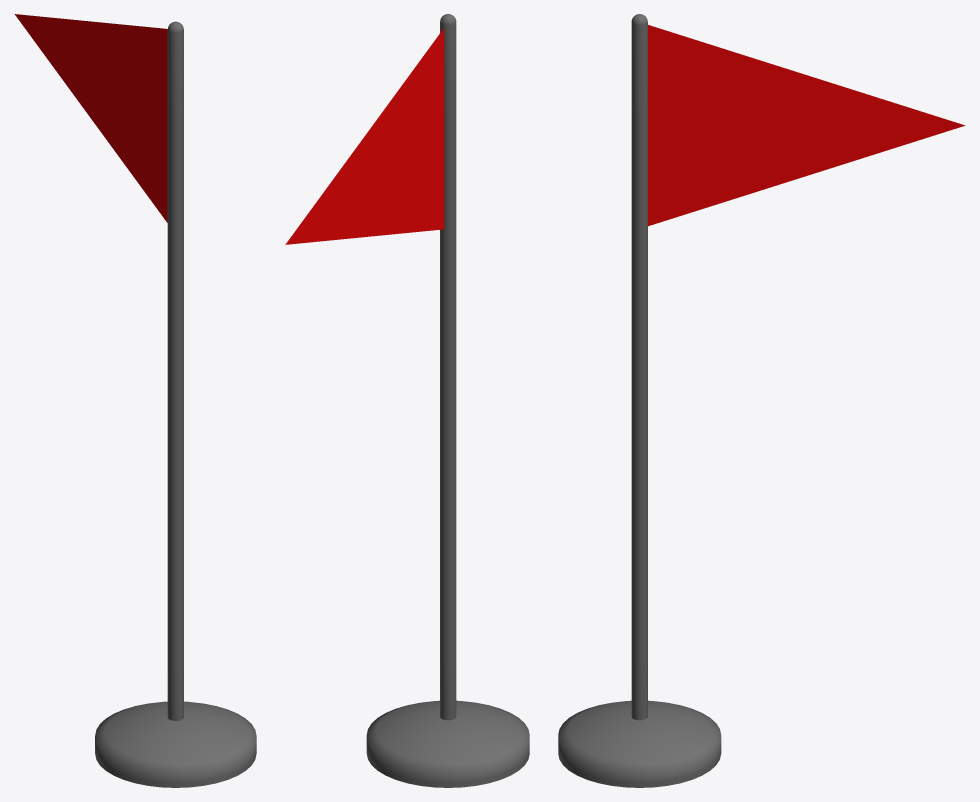
The model's file is flag.fbx.
The picture shows the model from 3 angles, left to right: view 1: azimuth 30°, elevation 25°; view 2: azimuth 150°, elevation 25°; view 3: azimuth 270°, elevation 25°; orthographic projection.
Visible parts, largest first — view 1: Capsule_1; view 2: Capsule_1; view 3: Capsule_1.
Boxes of the visible parts, x1=… form: Capsule_1: x1=14, y1=14, x2=256, y2=787; Capsule_1: x1=285, y1=14, x2=529, y2=787; Capsule_1: x1=558, y1=14, x2=965, y2=787.
Size of the model in its own units: 40 by 200 by 100.
